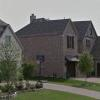Chimney: (24, 9, 38, 32)
